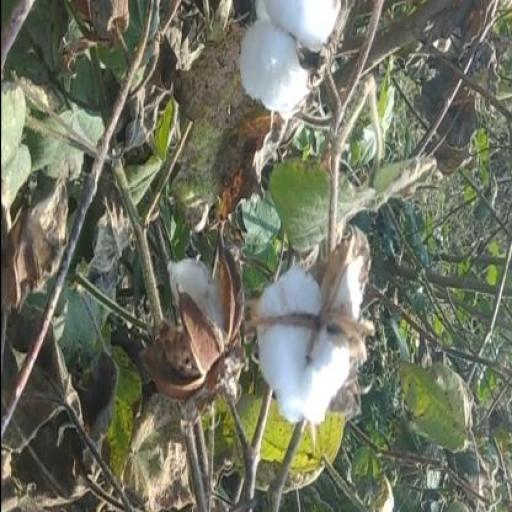cotton_ready: (245, 214, 364, 432)
